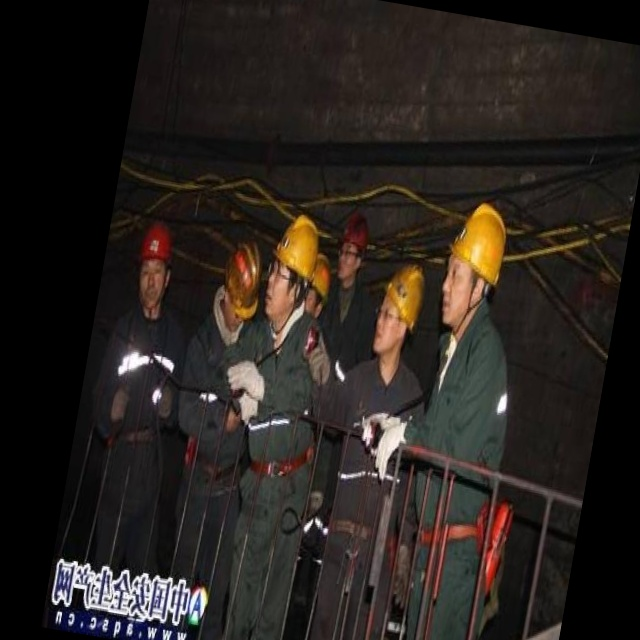Con_Casco: (436, 195, 510, 329), (373, 262, 428, 358)
